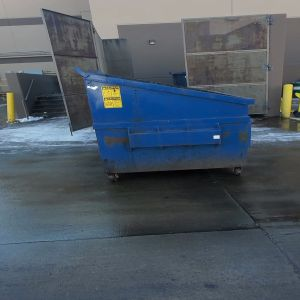Dumpster: (86, 74, 257, 185)
